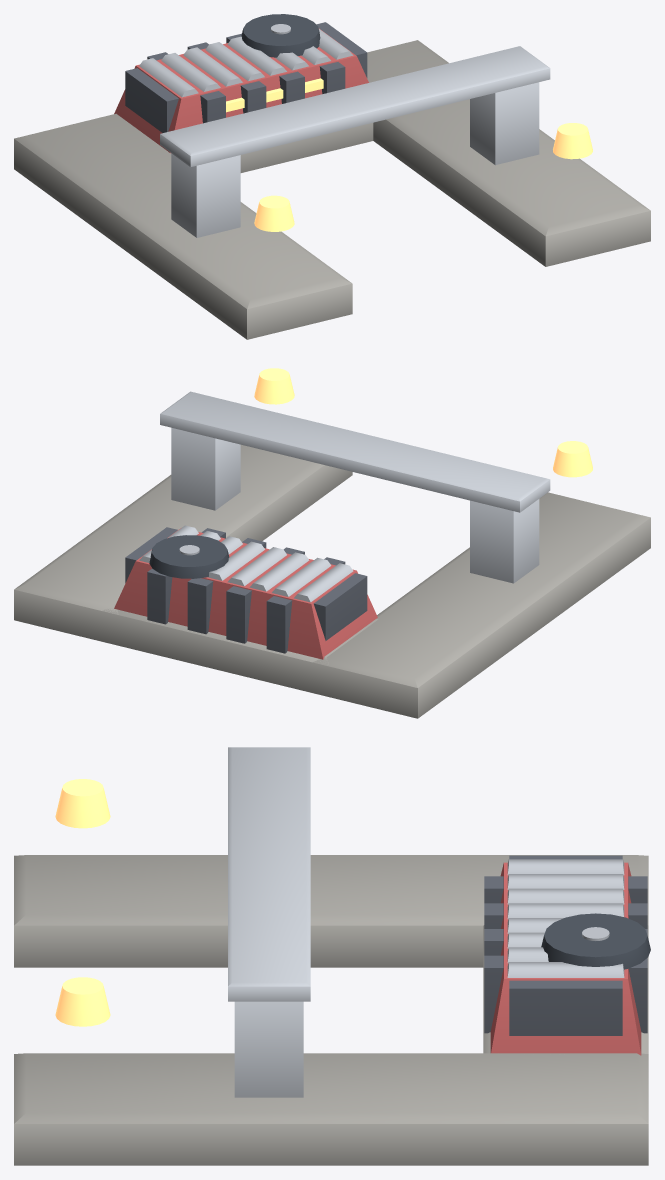
The model's file is nayard.glb.
3 views of the same model, one above another, from view 1: azimuth 30°, elevation 25°; view 2: azimuth 150°, elevation 25°; view 3: azimuth 270°, elevation 25° (orthographic). The views are drawn at different scales.
Visible parts, largest first — view 1: Hull; view 2: Hull; view 3: Hull.
Part boxes in pixels (x1,y1,x2,y2): Hull: [14, 14, 650, 339]; Hull: [14, 368, 650, 718]; Hull: [14, 747, 650, 1165].
Size of the model in its own units: 6.62 by 1.92 by 6.65.
